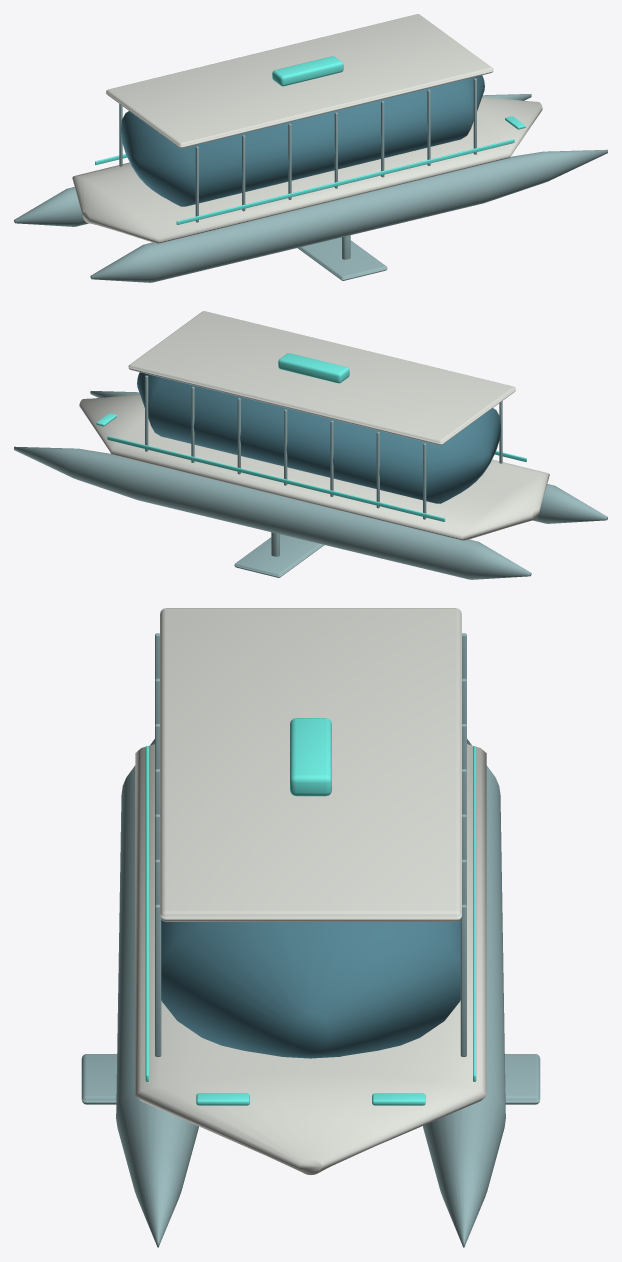
The model's file is WaterTaxi.fbx.
3 views of the same model, one above another, from view 1: azimuth 30°, elevation 25°; view 2: azimuth 150°, elevation 25°; view 3: azimuth 270°, elevation 25° (orthographic). The views are drawn at different scales.
Visible parts, largest first — view 1: BodyPaint coachwork, BrushedAlloy coachwork, Glazing coachwork, Headlamp coachwork; view 2: BodyPaint coachwork, BrushedAlloy coachwork, Glazing coachwork, Headlamp coachwork; view 3: BodyPaint coachwork, Glazing coachwork, BrushedAlloy coachwork, Headlamp coachwork.
Part boxes in pixels (x1,y1,x2,y2): BodyPaint coachwork: (72, 14, 542, 243); BrushedAlloy coachwork: (14, 78, 607, 282); Glazing coachwork: (121, 75, 484, 206); Headlamp coachwork: (95, 56, 525, 224); BodyPaint coachwork: (79, 311, 549, 540); BrushedAlloy coachwork: (14, 375, 607, 579); Glazing coachwork: (137, 372, 500, 503); Headlamp coachwork: (96, 353, 526, 521); BodyPaint coachwork: (135, 608, 486, 1174); Glazing coachwork: (161, 920, 460, 1058); BrushedAlloy coachwork: (81, 633, 540, 1247); Headlamp coachwork: (145, 718, 476, 1105).
Bounding box in the file's own units: 1560 × 490 × 600.
